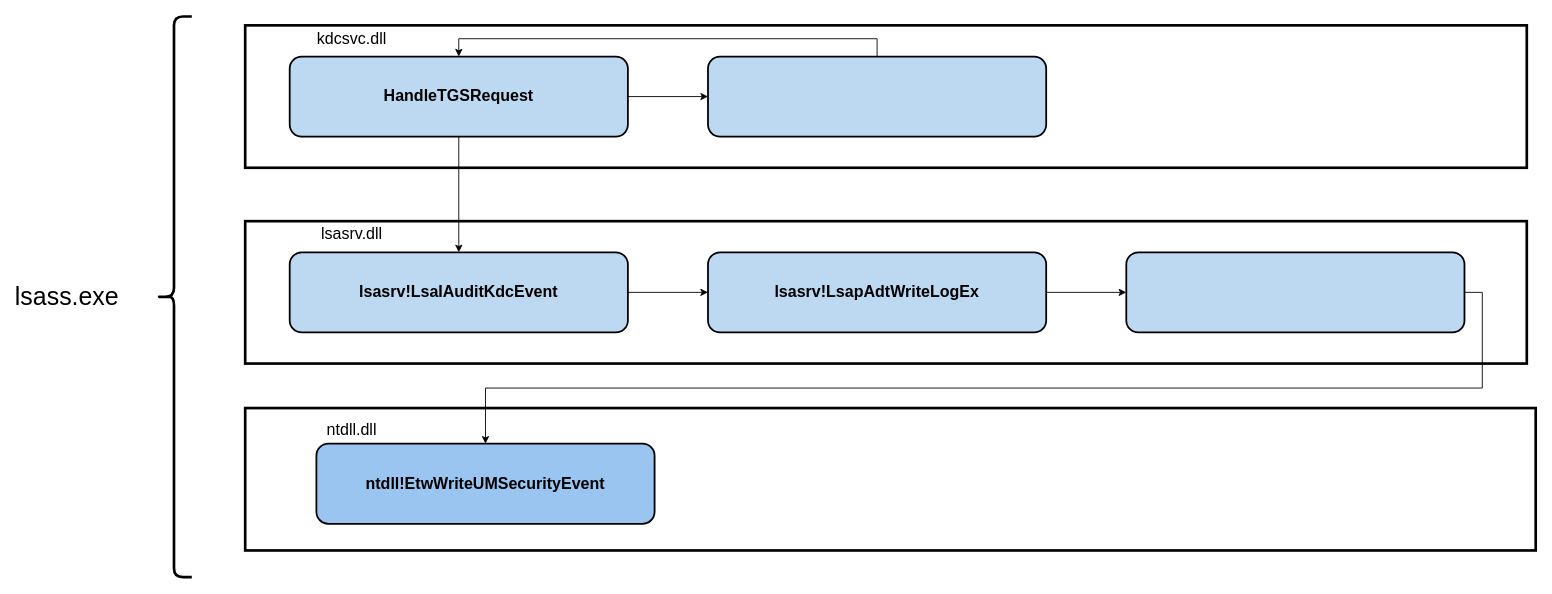
The diagram is 1552 pixels wide and 594 high, and some of its shapes have lost their labels. The shapes that lost their labels are listed below. From the top down, each one's centre as x and y in pixels, then its label:
[877,96]: I_RenewTicket
[1295,292]: lsasrv!AdtpWriteToEtw
